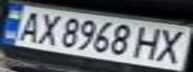6: (90, 20, 115, 54)
8: (109, 21, 139, 57), (54, 16, 81, 50)
9: (75, 17, 96, 53)
A: (9, 9, 48, 43)
H: (130, 24, 169, 61)
X: (151, 27, 193, 64), (30, 11, 63, 46)
